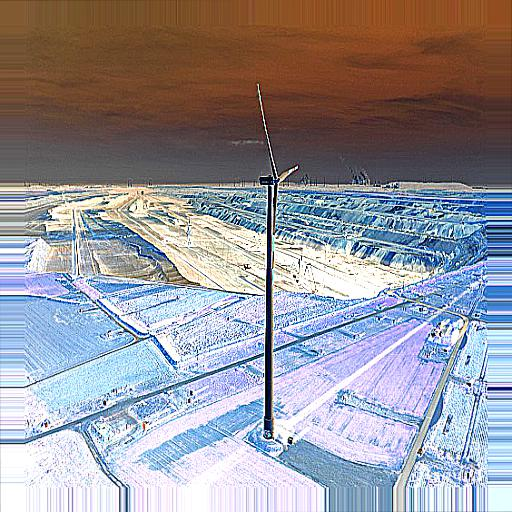wind turbine: (251, 83, 300, 439)
